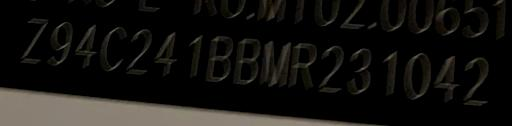letter: (342, 42, 382, 94), (257, 39, 295, 91), (16, 14, 54, 64), (202, 32, 238, 84), (286, 39, 322, 91), (460, 52, 494, 107), (230, 34, 264, 86), (314, 41, 348, 93), (400, 49, 434, 101), (122, 25, 154, 78), (430, 50, 462, 103), (96, 24, 130, 73), (150, 27, 182, 77), (72, 21, 104, 70), (46, 18, 76, 69), (379, 45, 405, 100), (181, 29, 207, 81)
